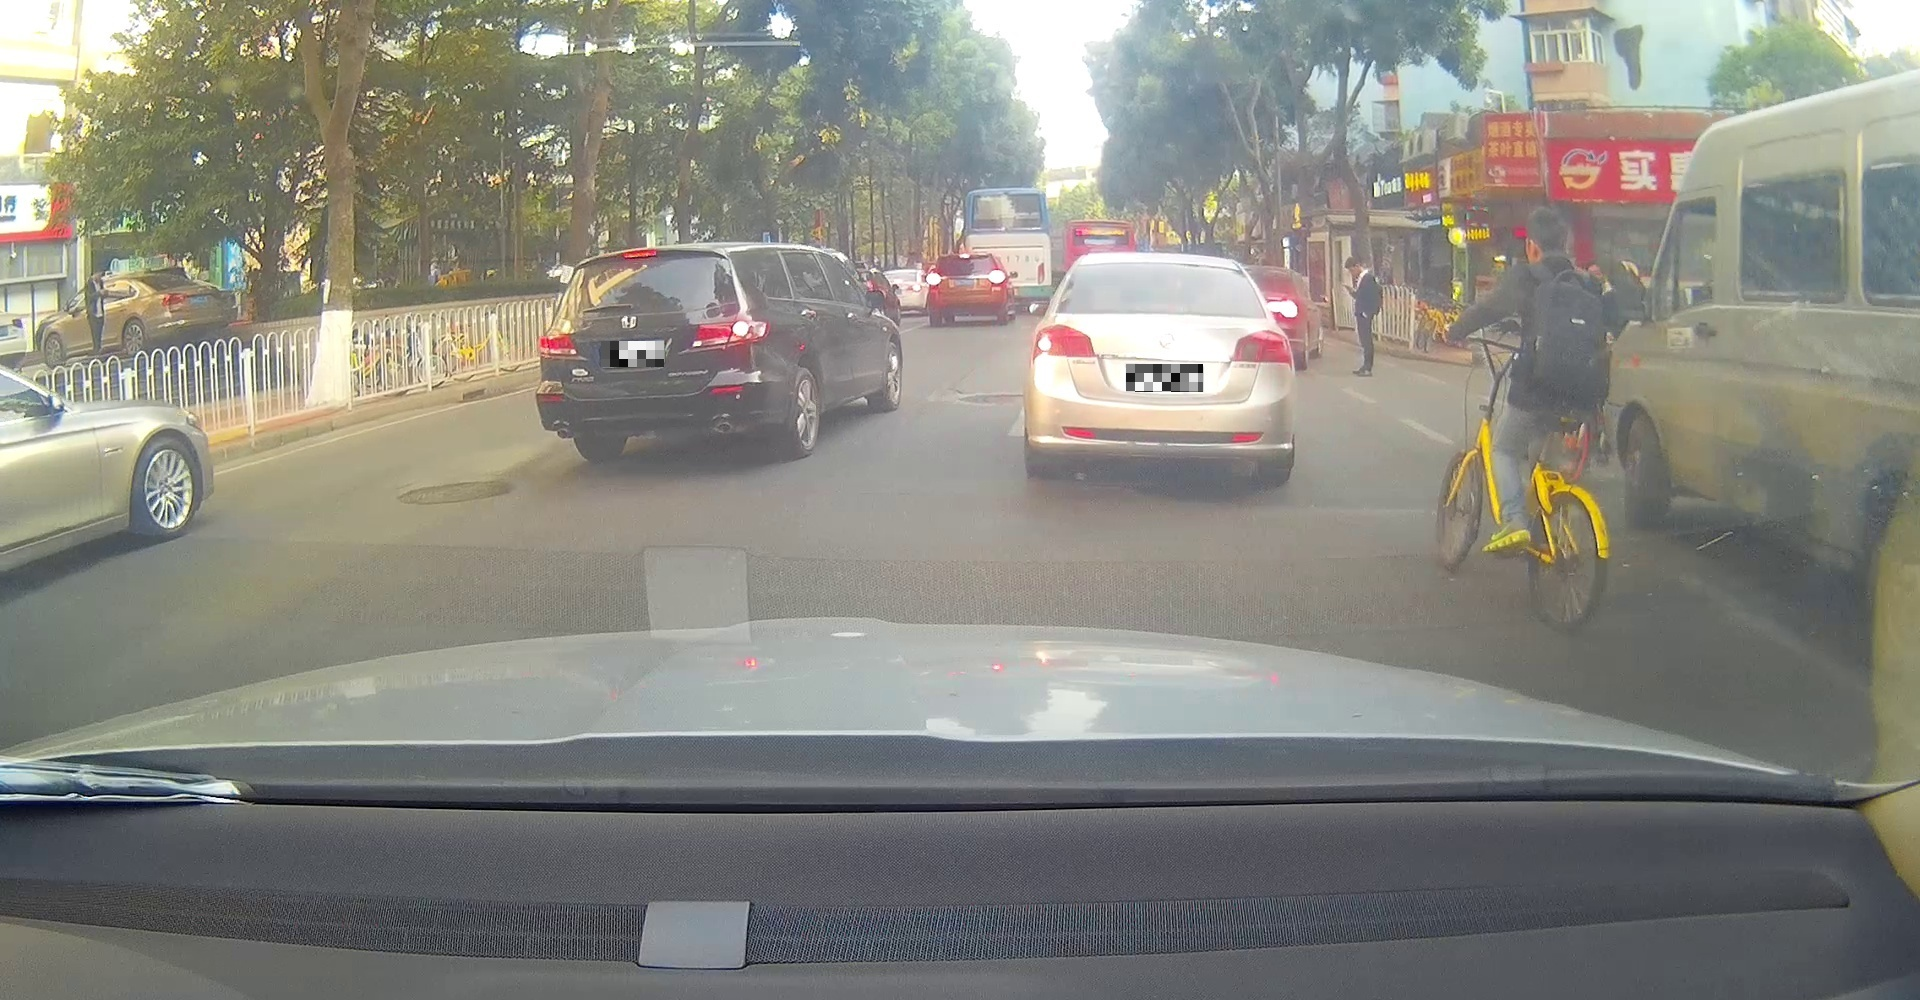L_light: (1031, 324, 1096, 359), (538, 332, 579, 359), (926, 272, 941, 286)
R_light: (690, 319, 770, 352), (1230, 330, 1293, 365), (987, 269, 1007, 284)
T_light: (620, 250, 657, 259), (1145, 263, 1177, 272), (957, 254, 971, 259)
day-brake: (535, 244, 770, 464), (926, 253, 1010, 327)
day-left: (1023, 253, 1295, 489)
plate_1: (601, 341, 664, 367)
plate_2: (1126, 364, 1203, 392)
